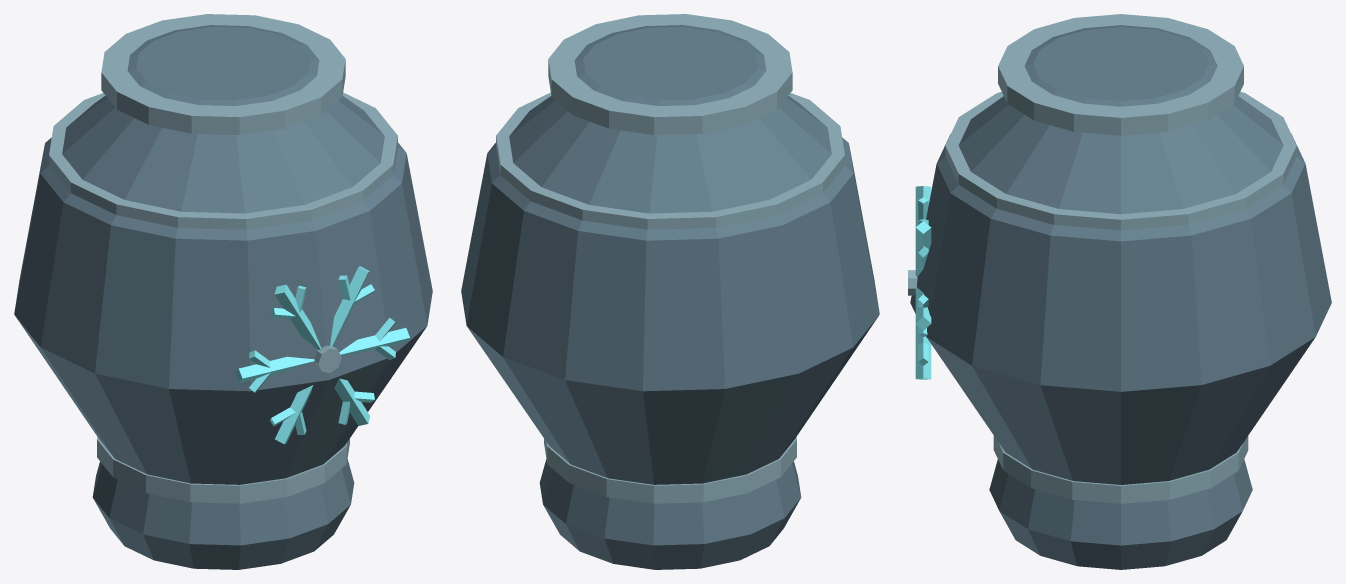
The model's file is decor_4.fbx.
The picture shows the model from 3 angles, left to right: view 1: azimuth 30°, elevation 25°; view 2: azimuth 150°, elevation 25°; view 3: azimuth 270°, elevation 25°; orthographic projection.
Parts seen in each view (by area): view 1: decor_4; view 2: decor_4; view 3: decor_4.
Part boxes in pixels (x1=…): decor_4: x1=14, y1=14, x2=432, y2=569; decor_4: x1=461, y1=14, x2=879, y2=569; decor_4: x1=908, y1=14, x2=1331, y2=569.
Size of the model in its own units: 0.96 by 1.15 by 0.965.
